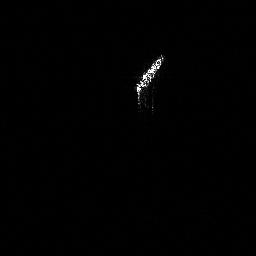ship: (131, 50, 168, 112)
